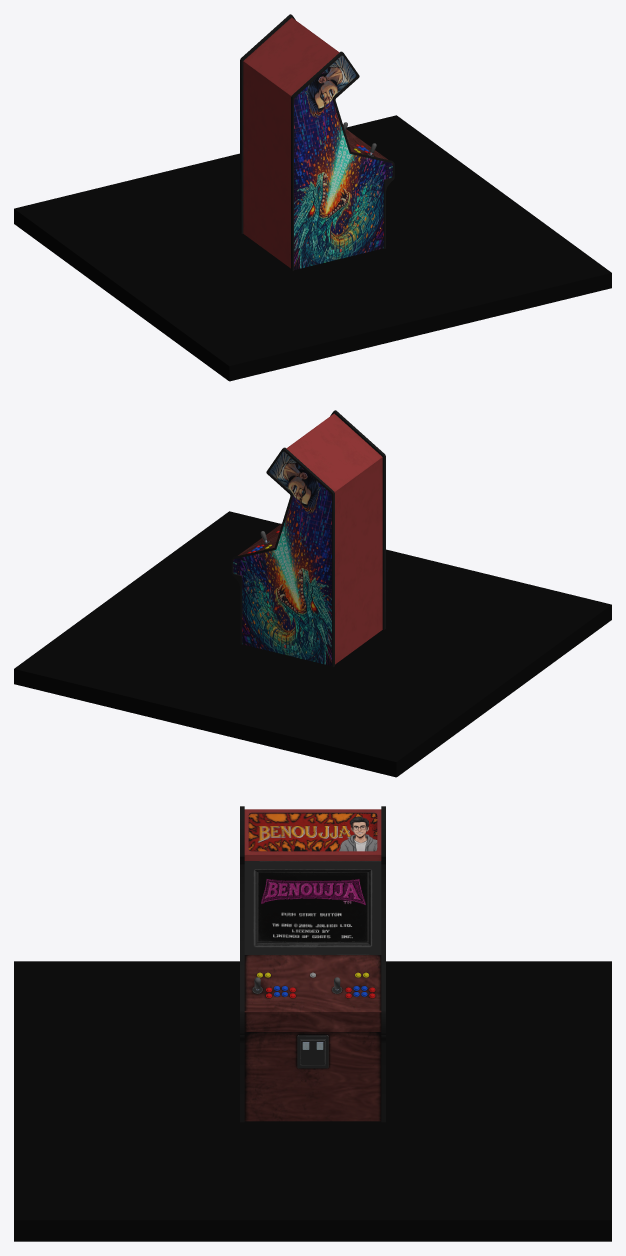
The model's file is arcadeMachineBenoujja.glb.
3 renders of one model, top to bottom at view 1: azimuth 30°, elevation 25°; view 2: azimuth 150°, elevation 25°; view 3: azimuth 270°, elevation 25°, orthographic. The views are drawn at different scales.
Parts seen in each view (by area): view 1: Cube.003; view 2: Cube.003; view 3: Cube.003.
Part boxes in pixels (x1,y1,x2,y2): Cube.003: (14, 14, 611, 381); Cube.003: (14, 410, 611, 777); Cube.003: (14, 806, 611, 1241).
Bounding box in the file's own units: 3.53 × 1.95 × 3.44.
5 materials, 5 textured.
